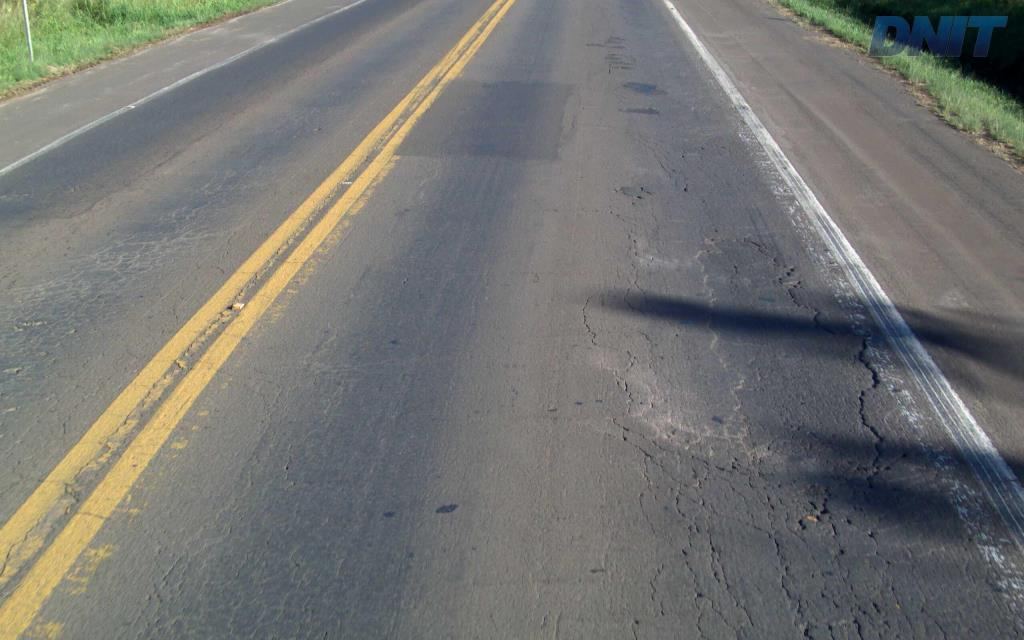pothole: (577, 233, 888, 487)
